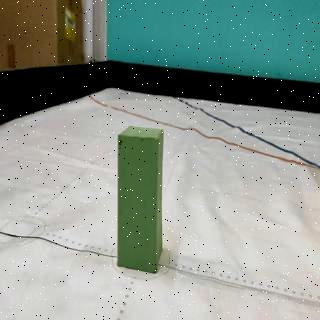greenbox: (116, 125, 164, 274)
